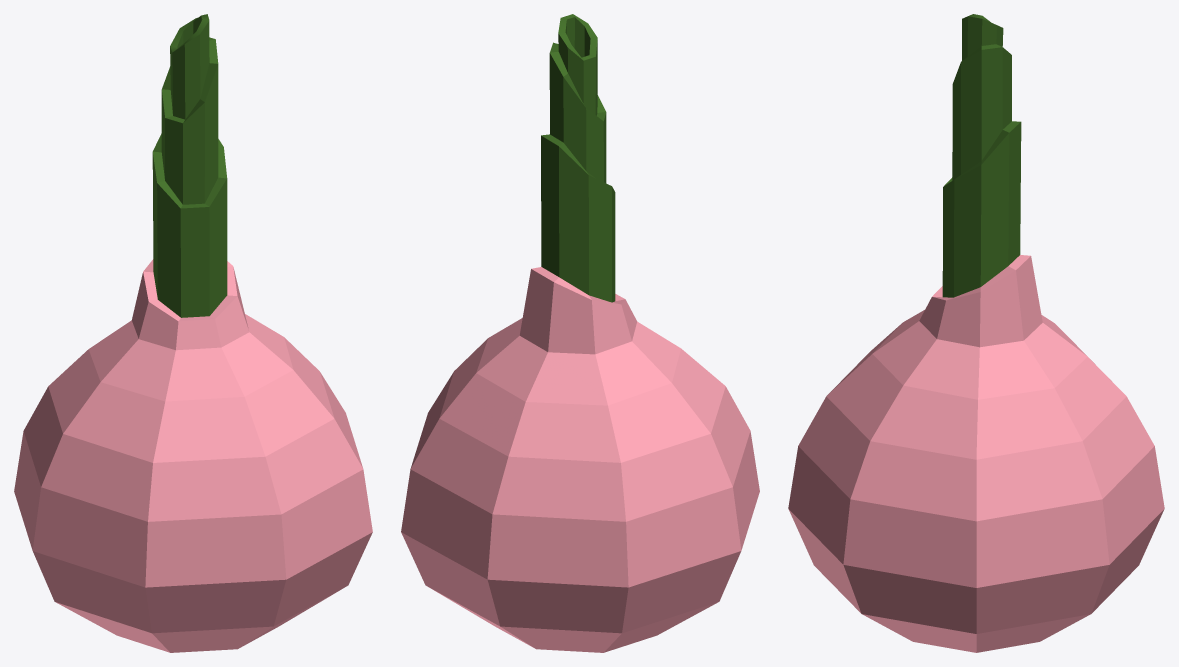
The model's file is Onion_2.fbx.
The picture shows the model from 3 angles, left to right: view 1: azimuth 30°, elevation 25°; view 2: azimuth 150°, elevation 25°; view 3: azimuth 270°, elevation 25°; orthographic projection.
Visible parts, largest first — view 1: Onion_2; view 2: Onion_2; view 3: Onion_2.
Part boxes in pixels (x1,y1,x2,y2): Onion_2: [14, 14, 372, 652]; Onion_2: [401, 14, 759, 652]; Onion_2: [788, 14, 1164, 652].
Size of the model in its own units: 48.31 by 85.62 by 48.31.
